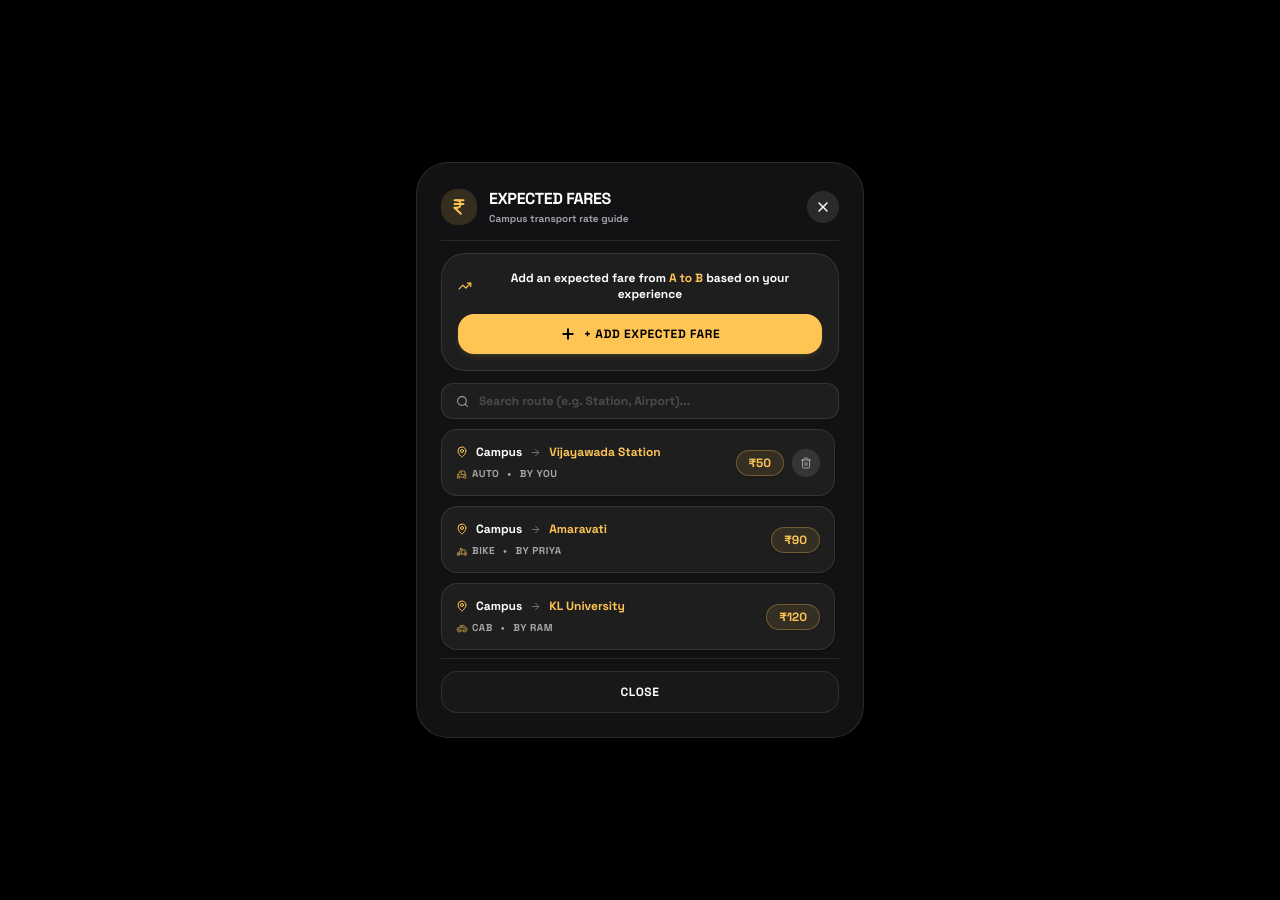
ExpectedFaresModal › filters the board with the search box when enough rows exist
Type "university" into the field with placeholder "Search route (e.g. Station, Airport)...".
click(652, 401); type("university")  # box [479,393,824,409]
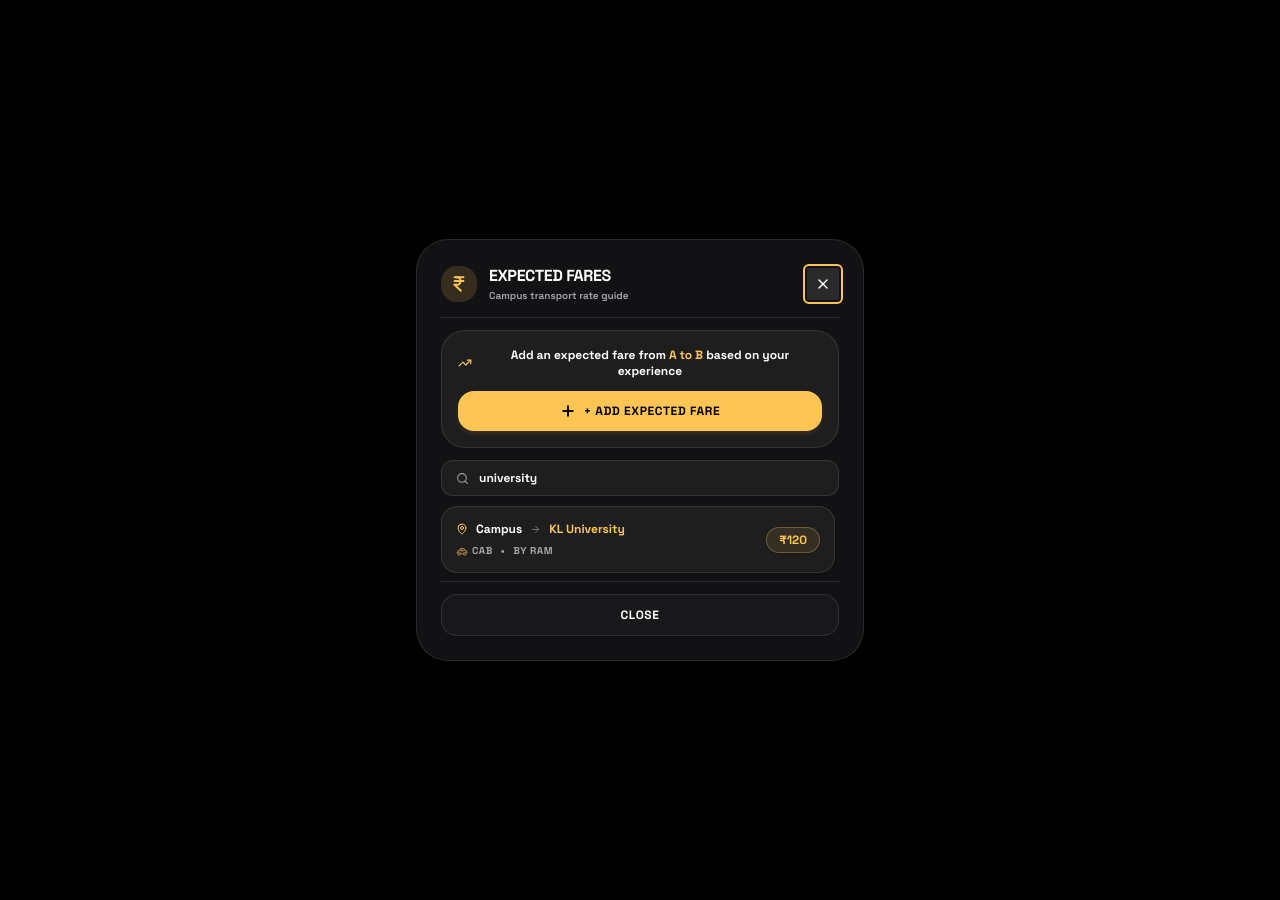
Expected: the text "KL University" is shown, [549,521,625,537]
Expected: the text "Amaravati" is gone
